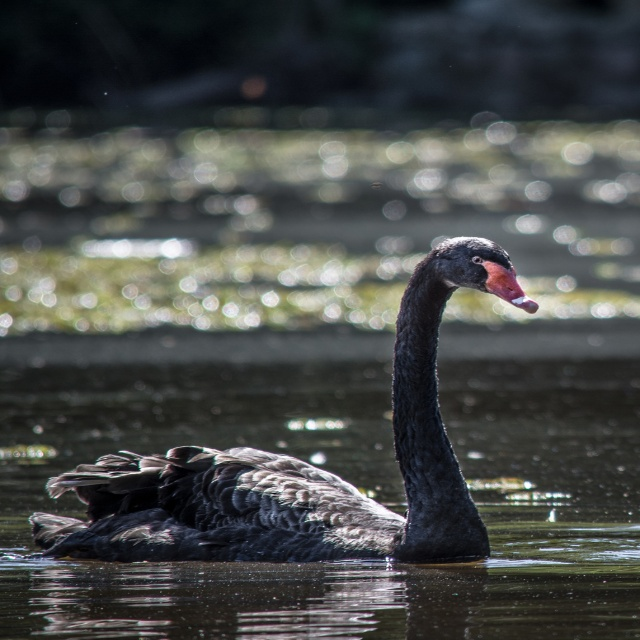Duck: (0, 238, 538, 562)
